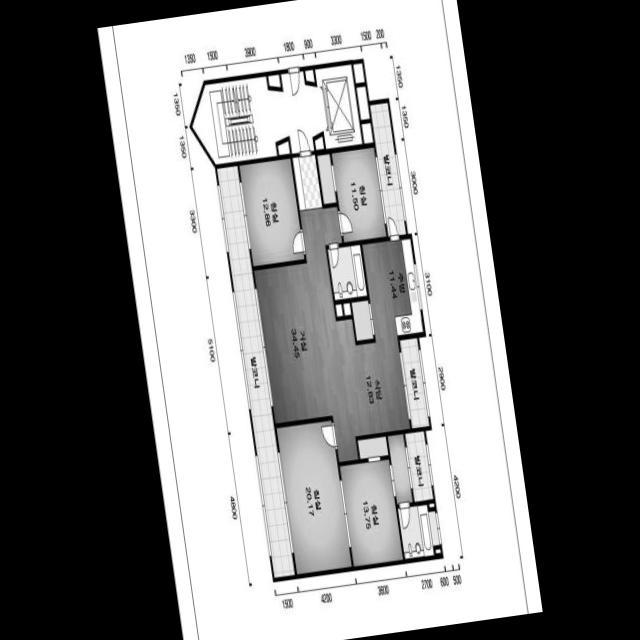background: (97, 0, 543, 640)
space_balconi: (216, 165, 295, 579), (370, 103, 406, 238), (399, 338, 429, 429), (405, 431, 433, 502)
space_bedroom: (276, 421, 352, 575), (239, 158, 304, 267), (339, 459, 403, 567), (317, 147, 386, 244)
space_elevator: (314, 64, 362, 150)
space_front: (292, 154, 322, 210)
space_kitchen: (338, 239, 423, 436)
space_living_room: (254, 207, 358, 461)
space_other: (357, 436, 388, 460), (356, 86, 370, 121), (361, 123, 373, 144), (353, 63, 365, 84), (277, 141, 290, 155), (268, 75, 281, 87), (305, 70, 315, 83), (315, 136, 324, 150), (335, 304, 343, 317), (343, 303, 351, 316), (435, 549, 441, 554), (429, 503, 434, 507)
space_staircase: (192, 71, 323, 165)
space_toilet: (387, 434, 440, 559), (327, 244, 367, 301)
